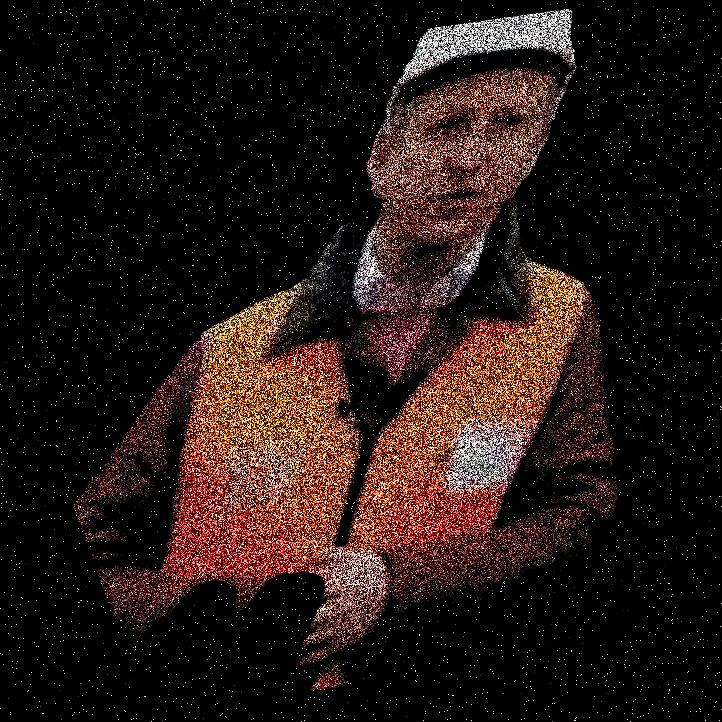Pessoa: (269, 0, 593, 721)
